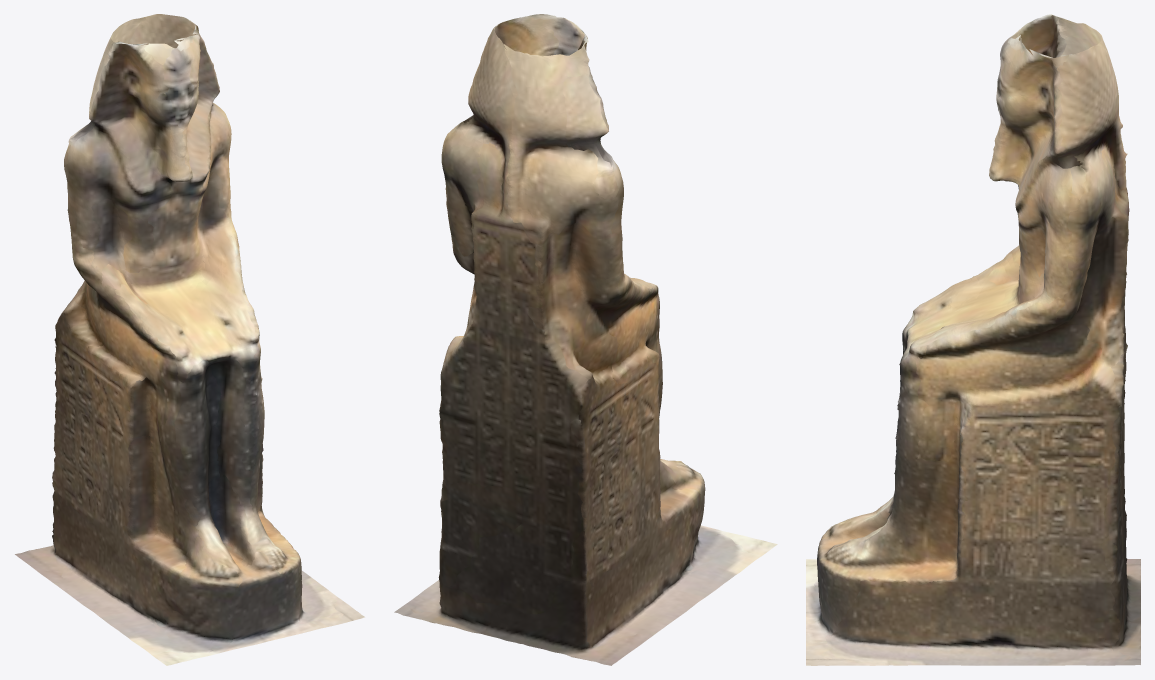
Rendered from pharaon.glb.
The picture shows the model from 3 angles, left to right: view 1: azimuth 30°, elevation 25°; view 2: azimuth 150°, elevation 25°; view 3: azimuth 270°, elevation 25°; orthographic projection. The views are drawn at different scales.
Parts seen in each view (by area): view 1: Object_2; view 2: Object_2; view 3: Object_2.
Boxes of the visible parts, x1=… form: Object_2: x1=15, y1=14, x2=364, y2=665; Object_2: x1=394, y1=14, x2=777, y2=665; Object_2: x1=806, y1=14, x2=1140, y2=665.
Bounding box in the file's own units: 33880 × 86211 × 44964.
Materials: 1 (1 with a texture image).
